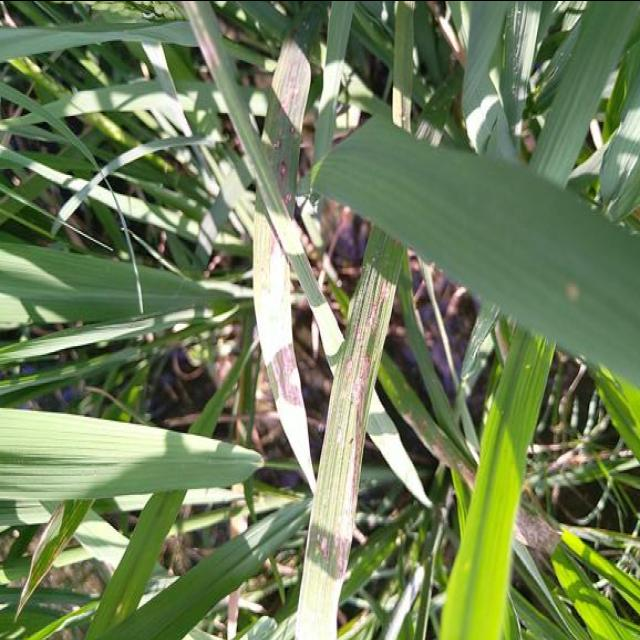Leaf Streak: (296, 224, 404, 640), (254, 211, 309, 467), (404, 407, 477, 493), (273, 6, 323, 131), (515, 473, 562, 557)
